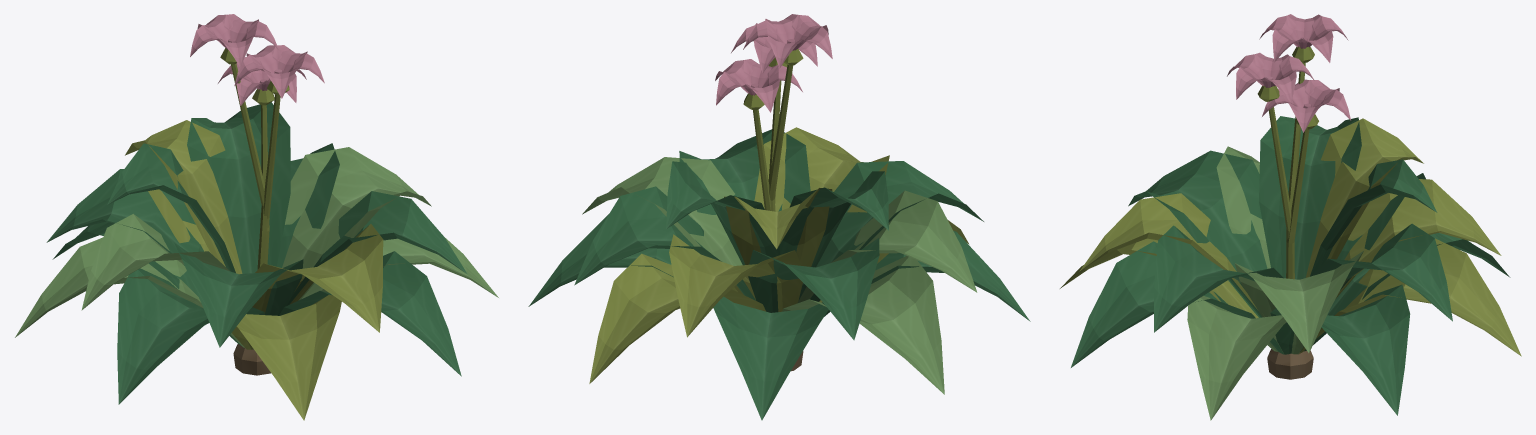
The model's file is AST-BOT-003_pool_wet_fullness_02.glb.
3 views of the same model, side by side, from view 1: azimuth 30°, elevation 25°; view 2: azimuth 150°, elevation 25°; view 3: azimuth 270°, elevation 25° (orthographic). The views are drawn at different scales.
Parts seen in each view (by area): view 1: RT_AST-BOT-003_pool_wet_fullness_02__leaf_jade, RT_AST-BOT-003_pool_wet_fullness_02__leaf_olive, RT_AST-BOT-003_pool_wet_fullness_02__leaf_sage, RT_AST-BOT-003_pool_wet_fullness_02__flower, RT_AST-BOT-003_pool_wet_fullness_02__bark; view 2: RT_AST-BOT-003_pool_wet_fullness_02__leaf_jade, RT_AST-BOT-003_pool_wet_fullness_02__leaf_olive, RT_AST-BOT-003_pool_wet_fullness_02__leaf_sage, RT_AST-BOT-003_pool_wet_fullness_02__flower; view 3: RT_AST-BOT-003_pool_wet_fullness_02__leaf_jade, RT_AST-BOT-003_pool_wet_fullness_02__leaf_olive, RT_AST-BOT-003_pool_wet_fullness_02__leaf_sage, RT_AST-BOT-003_pool_wet_fullness_02__flower, RT_AST-BOT-003_pool_wet_fullness_02__bark.
Part boxes in pixels (x1,y1,x2,y2): RT_AST-BOT-003_pool_wet_fullness_02__leaf_jade: (46,102,467,404); RT_AST-BOT-003_pool_wet_fullness_02__leaf_olive: (125,48,383,420); RT_AST-BOT-003_pool_wet_fullness_02__leaf_sage: (15,147,498,347); RT_AST-BOT-003_pool_wet_fullness_02__flower: (190,14,324,105); RT_AST-BOT-003_pool_wet_fullness_02__bark: (233,344,270,375); RT_AST-BOT-003_pool_wet_fullness_02__leaf_jade: (528,129,1030,420); RT_AST-BOT-003_pool_wet_fullness_02__leaf_olive: (589,49,969,383); RT_AST-BOT-003_pool_wet_fullness_02__leaf_sage: (582,157,977,394); RT_AST-BOT-003_pool_wet_fullness_02__flower: (715,14,832,112); RT_AST-BOT-003_pool_wet_fullness_02__leaf_jade: (1071,116,1510,415); RT_AST-BOT-003_pool_wet_fullness_02__leaf_olive: (1060,46,1521,356); RT_AST-BOT-003_pool_wet_fullness_02__leaf_sage: (1187,146,1363,420); RT_AST-BOT-003_pool_wet_fullness_02__flower: (1227,14,1350,132); RT_AST-BOT-003_pool_wet_fullness_02__bark: (1267,349,1313,379).
Size of the model in its own units: 0.469 by 0.3754 by 0.469.
Materials: 5 (5 with a texture image).
